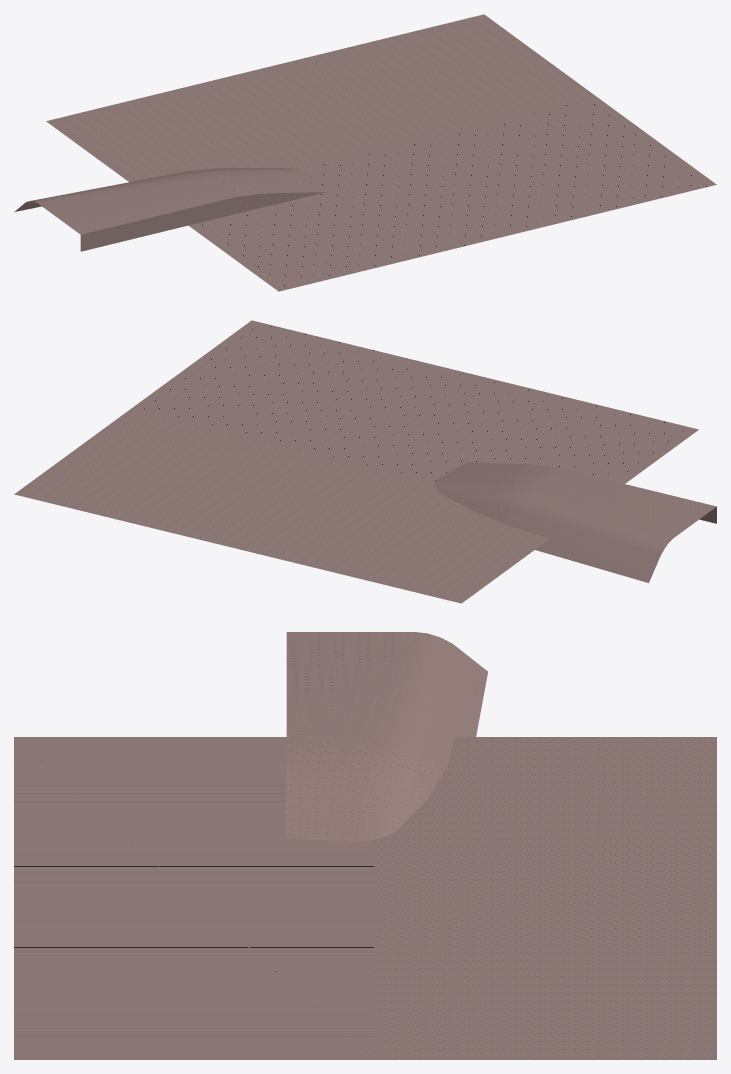
Rendered from Landscape.fbx.
3 renders of one model, top to bottom at view 1: azimuth 30°, elevation 25°; view 2: azimuth 150°, elevation 25°; view 3: azimuth 270°, elevation 25°, orthographic. The views are drawn at different scales.
Parts seen in each view (by area): view 1: Landscape; view 2: Landscape; view 3: Landscape.
Boxes of the visible parts, bbox=[...] form: Landscape: bbox=[14, 14, 716, 291]; Landscape: bbox=[14, 320, 716, 603]; Landscape: bbox=[14, 632, 716, 1059].
Size of the model in its own units: 80.19 by 3.98 by 59.24.
Materials: 1 (1 with a texture image).
